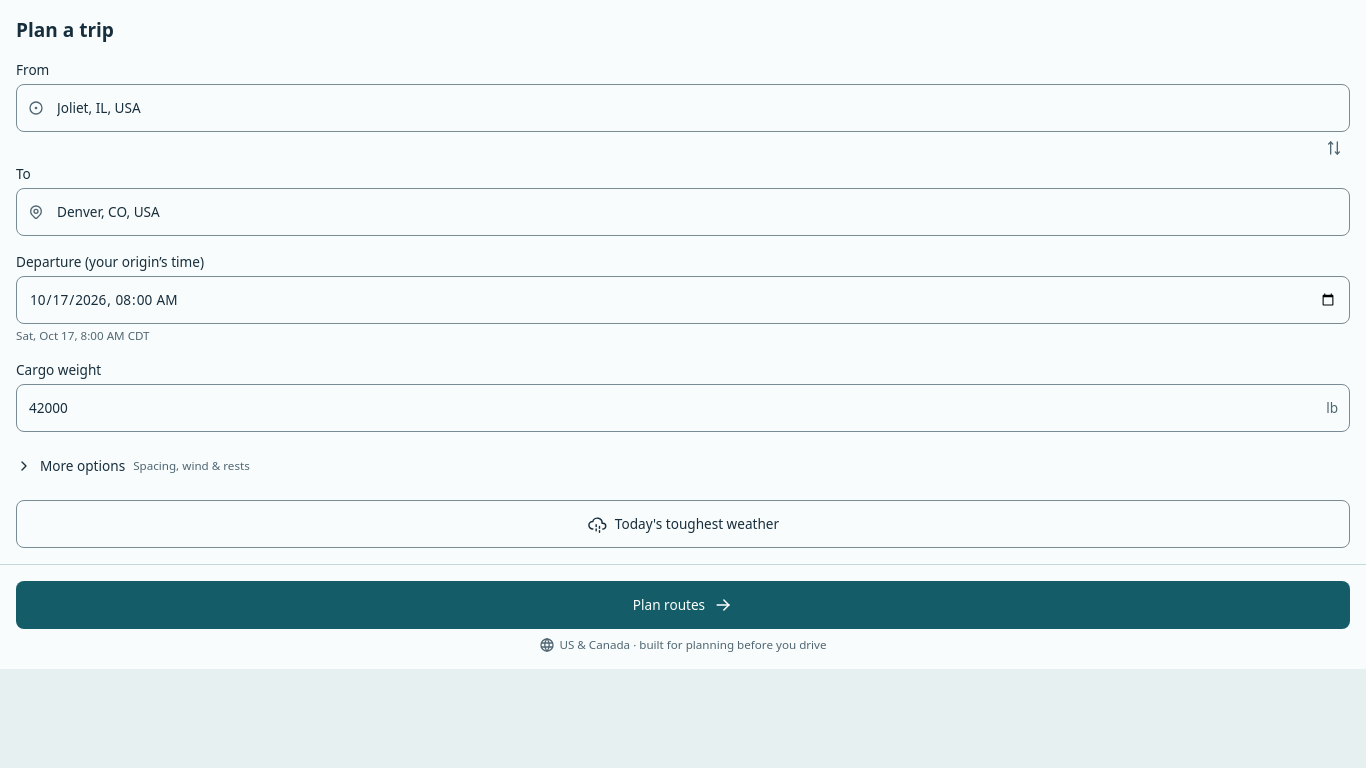
daily weather showcase › keeps the button when nothing is available, explains why, and retries on request
The width and height of the screenshot is (1366, 768).
Click the button "Today's toughest weather" at (683,524), box [16, 500, 1350, 548]
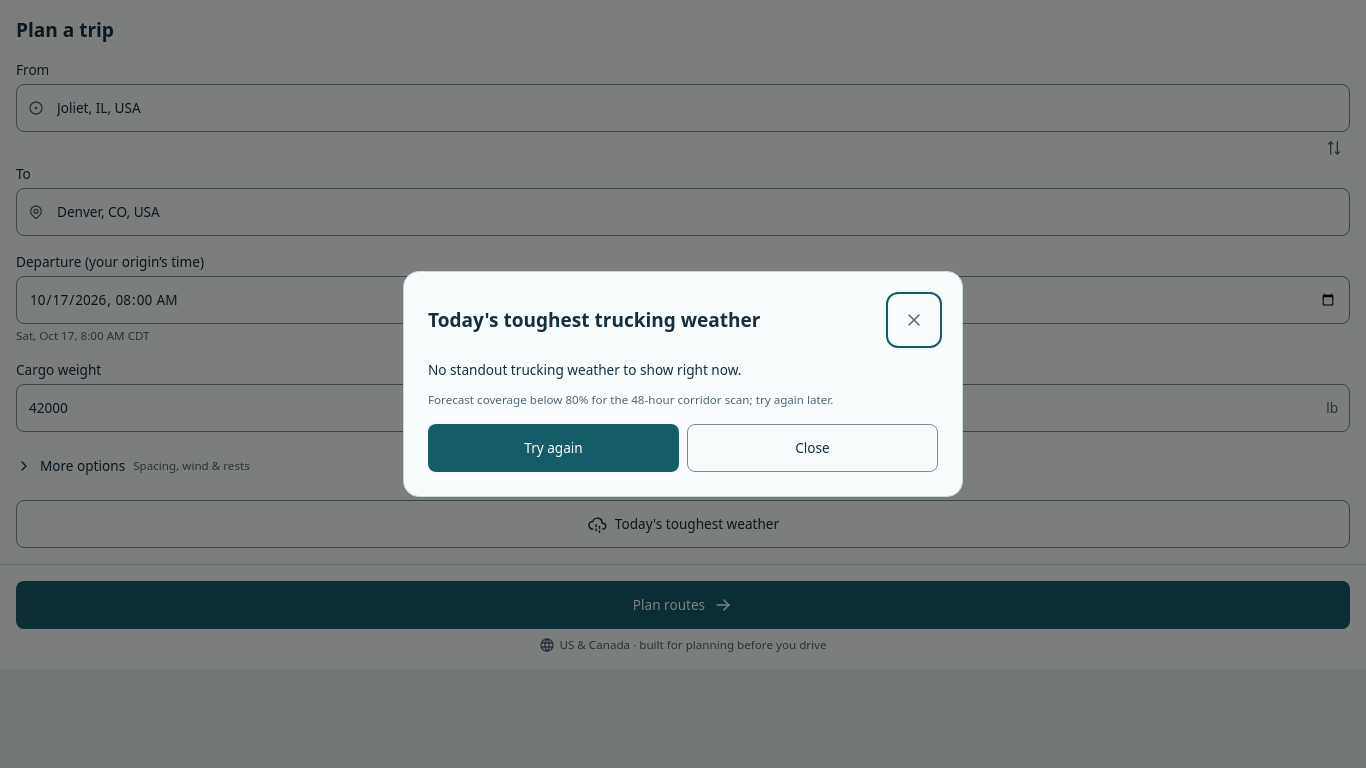
Check: the dialog "Today's toughest trucking weather" shows "No standout trucking weather to show right now.", box [428, 360, 741, 379]
Check: the dialog "Today's toughest trucking weather" shows "coverage below 80%", box [428, 392, 833, 407]
Click the button "Try again" at (554,448), box [428, 424, 679, 472]
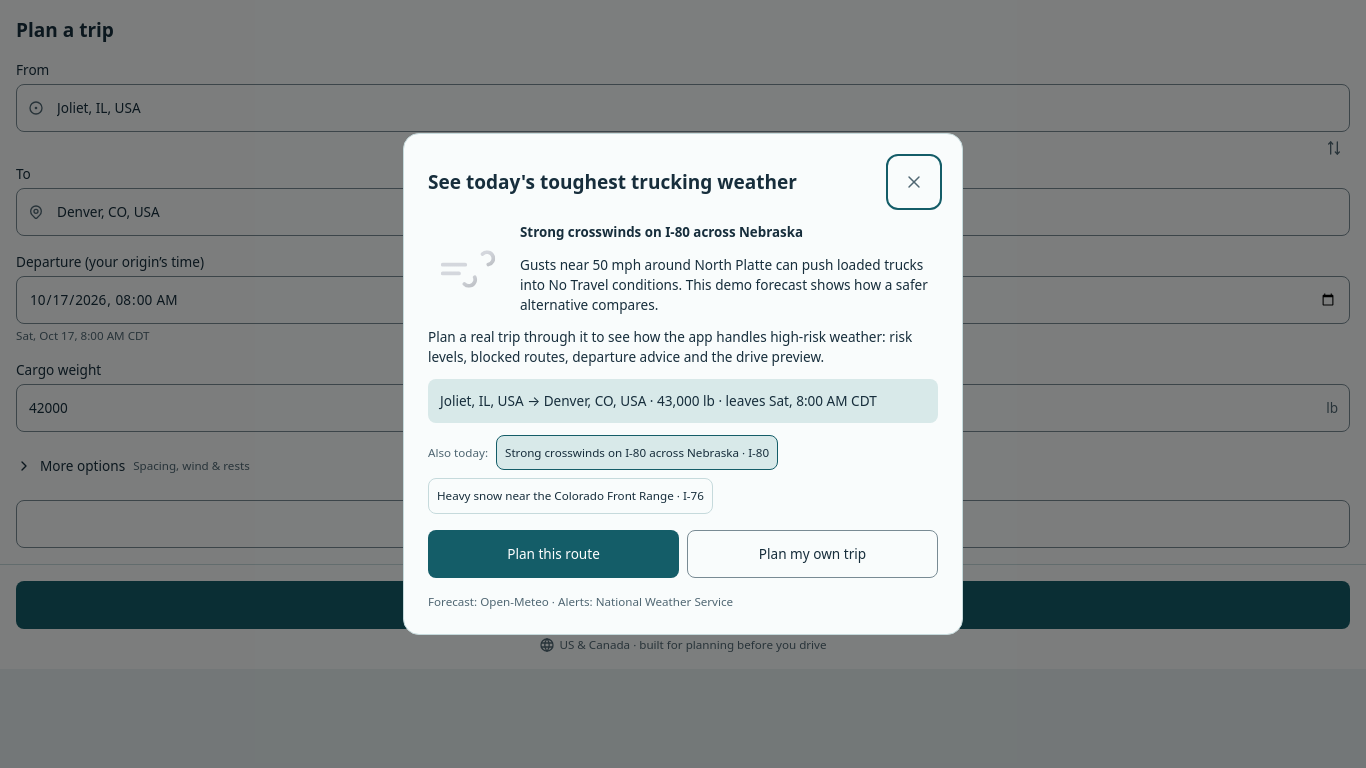
Check: the dialog "See today's toughest trucking weather" is shown, box [403, 133, 963, 635]
